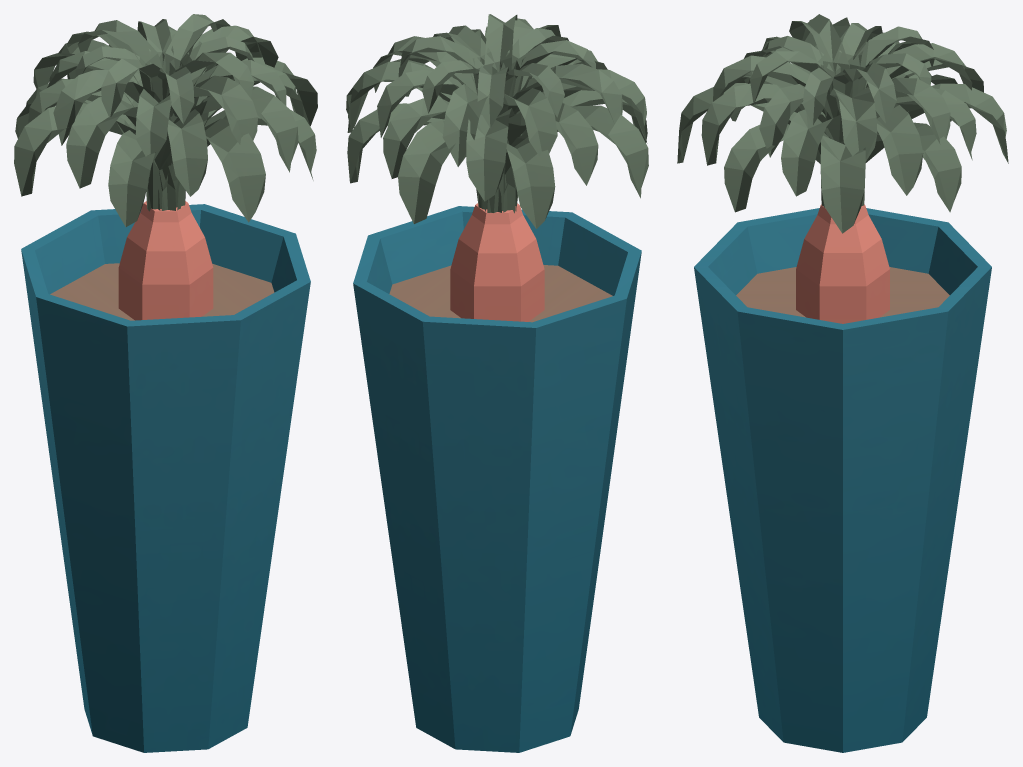
Rendered from plant-big.glb.
The picture shows the model from 3 angles, left to right: view 1: azimuth 30°, elevation 25°; view 2: azimuth 150°, elevation 25°; view 3: azimuth 270°, elevation 25°; orthographic projection.
Parts seen in each view (by area): view 1: PlantBig.001; view 2: PlantBig.001; view 3: PlantBig.001.
Boxes of the visible parts, <box> form: PlantBig.001: <box>14,14,317,752</box>; PlantBig.001: <box>346,14,648,752</box>; PlantBig.001: <box>677,14,1008,752</box>.
Size of the model in its own units: 0.6662 by 1.49 by 0.6662.
1 material, 1 textured.
